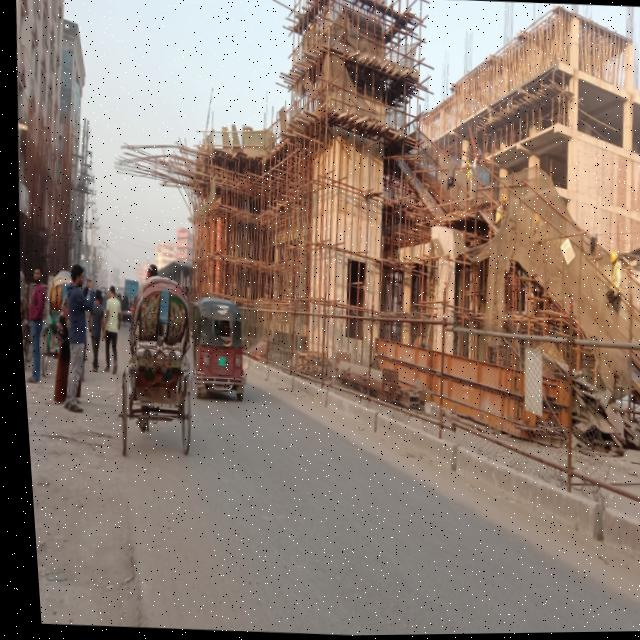cng: (180, 274, 265, 423)
rikshaw: (101, 254, 207, 470)
